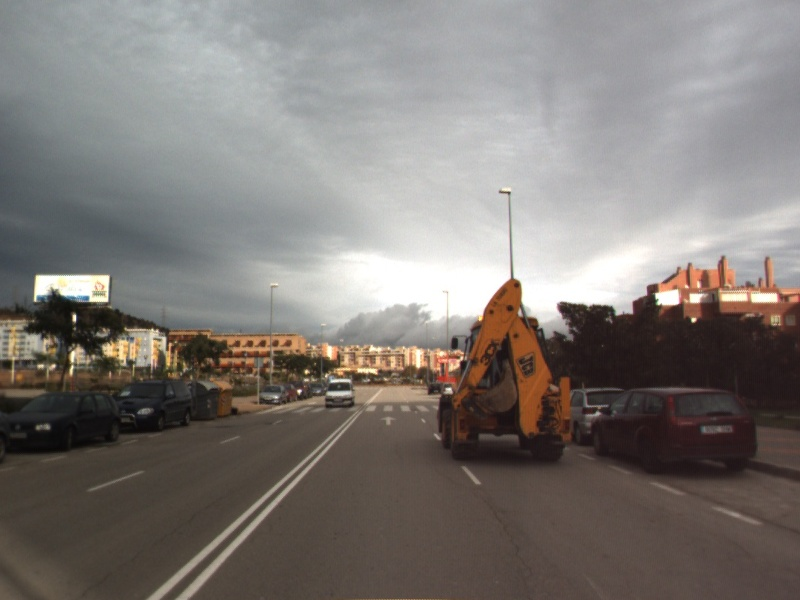STRAIGHT: (378, 414, 399, 427)
